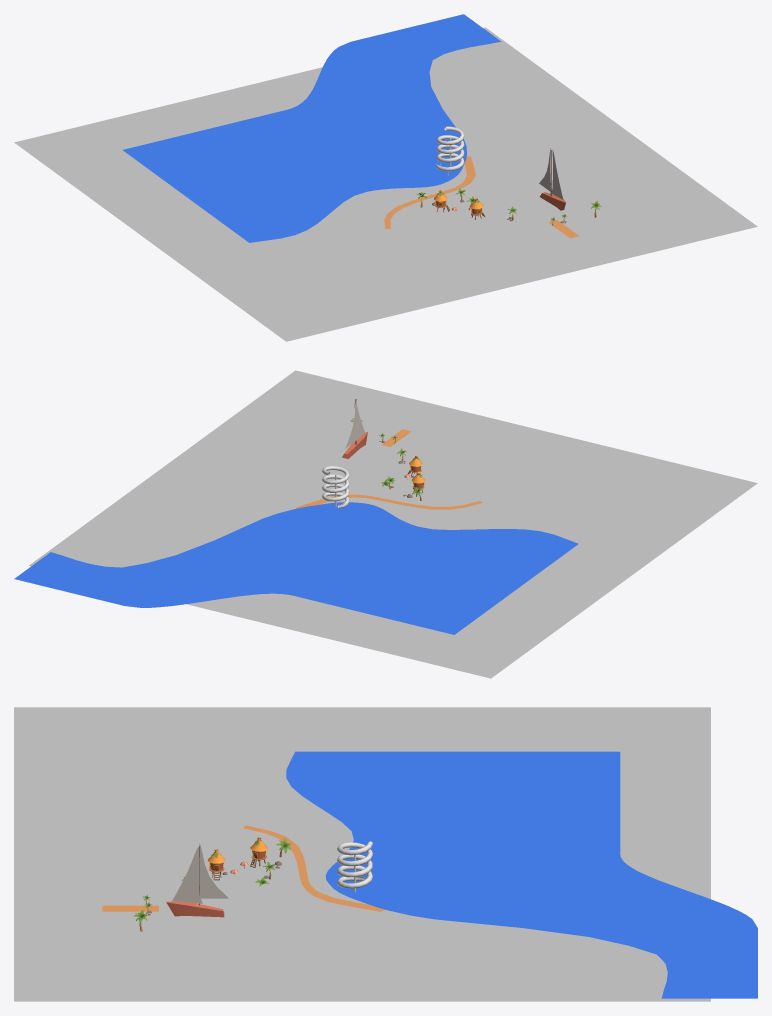
The model's file is envir_dessert.fbx.
3 renders of one model, top to bottom at view 1: azimuth 30°, elevation 25°; view 2: azimuth 150°, elevation 25°; view 3: azimuth 270°, elevation 25°, orthographic. The views are drawn at different scales.
Visible parts, largest first — view 1: Plane_001_1, Plane_003, Circle.002, Cube, Plane_002; view 2: Plane_001_1, Plane_003, Circle.002, Cube, Plane_002; view 3: Plane_001_1, Plane_003, Cube, Circle.002, Plane_002.
Part boxes in pixels (x1,y1,x2,y2): Plane_001_1: (14,27,757,341); Plane_003: (123,14,500,242); Circle.002: (436,126,464,175); Cube: (539,148,565,210); Plane_002: (384,156,475,229); Plane_001_1: (29,370,757,678); Plane_003: (14,502,578,634); Circle.002: (322,466,349,508); Cube: (342,399,367,458); Plane_002: (296,494,482,509); Plane_001_1: (14,707,710,1001); Plane_003: (286,751,757,998); Cube: (166,843,228,917); Circle.002: (337,841,372,892); Plane_002: (243,825,385,911).
Bounding box in the file's own units: 228 × 28.59 × 243.
